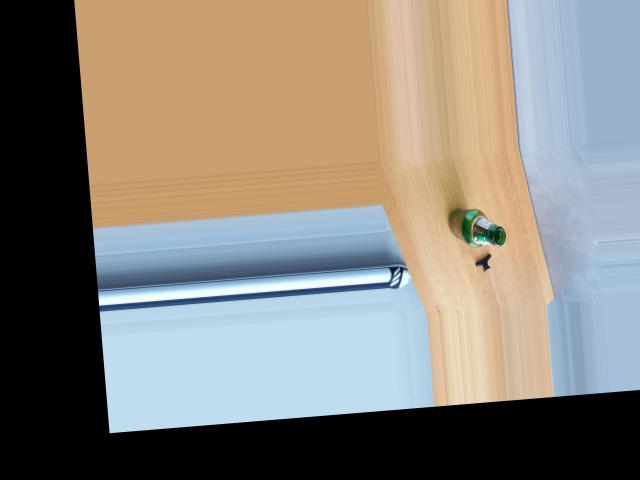beer: (446, 204, 505, 250)
